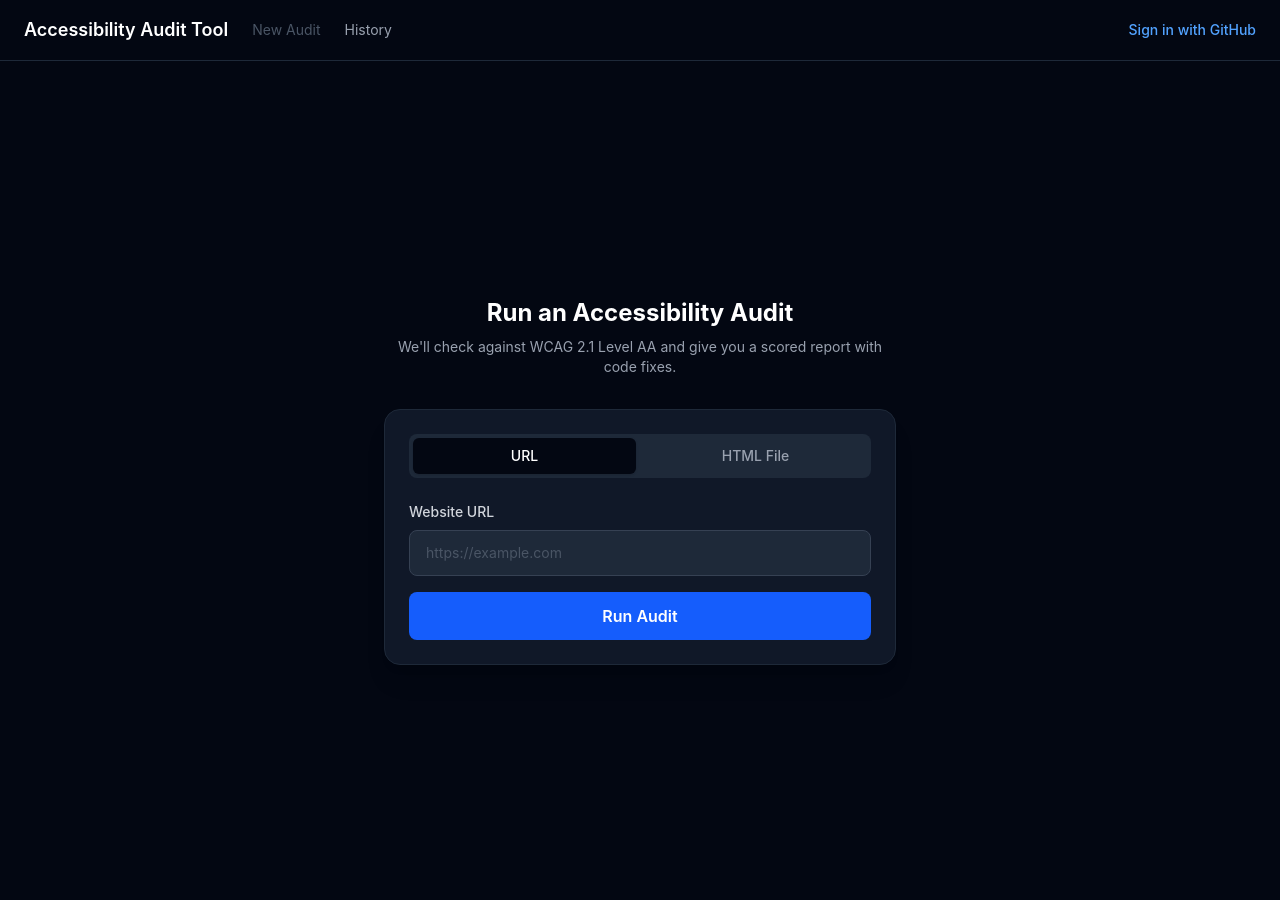
Test case: AuditForm › shows an error when URL is empty
The width and height of the screenshot is (1280, 900).
Click the button "Run Audit".
click(640, 616)  # box [409,592,871,640]
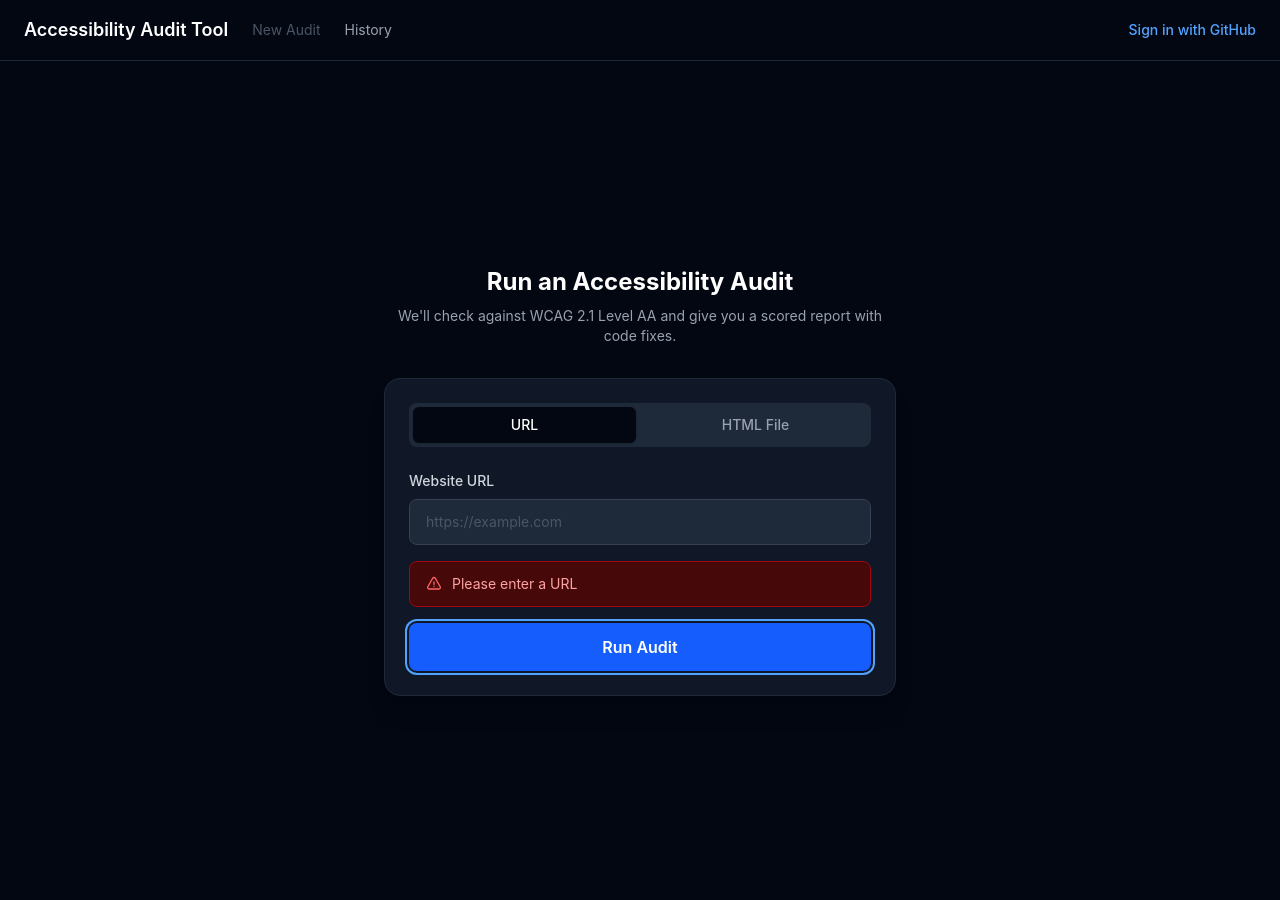
Result: the message reads "Please enter a URL" at [452,574,577,592]
